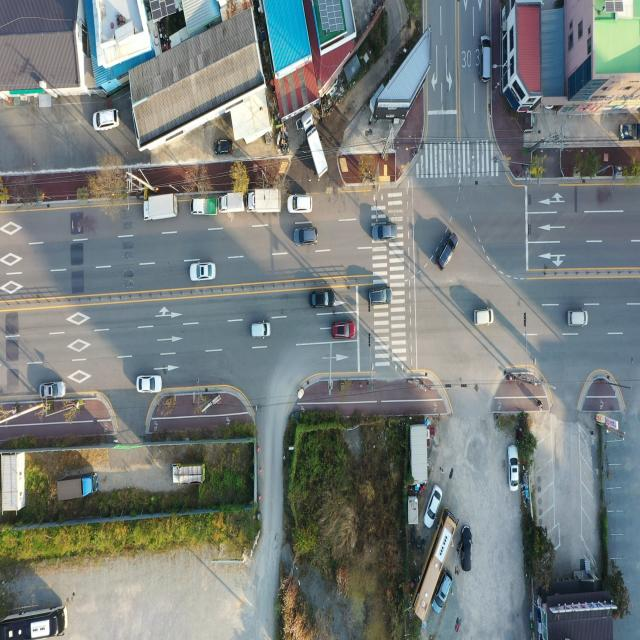car: (437, 230, 459, 271), (435, 567, 454, 609), (426, 486, 442, 532), (94, 107, 120, 131), (189, 262, 215, 284), (479, 38, 492, 82), (461, 526, 475, 566), (214, 135, 236, 157), (310, 289, 334, 309), (287, 195, 312, 214), (41, 381, 67, 399), (296, 228, 320, 247), (369, 288, 394, 306), (373, 222, 397, 240), (136, 376, 160, 394), (510, 448, 520, 491), (475, 308, 494, 328), (567, 310, 588, 328), (334, 321, 356, 338), (251, 322, 270, 338)
large_bus: (413, 506, 458, 624), (0, 603, 67, 639)
medium_truck: (55, 470, 97, 504), (303, 128, 327, 180), (143, 193, 180, 223), (246, 185, 284, 214)
small_truck: (172, 463, 207, 486), (220, 194, 246, 212), (191, 196, 215, 214)
